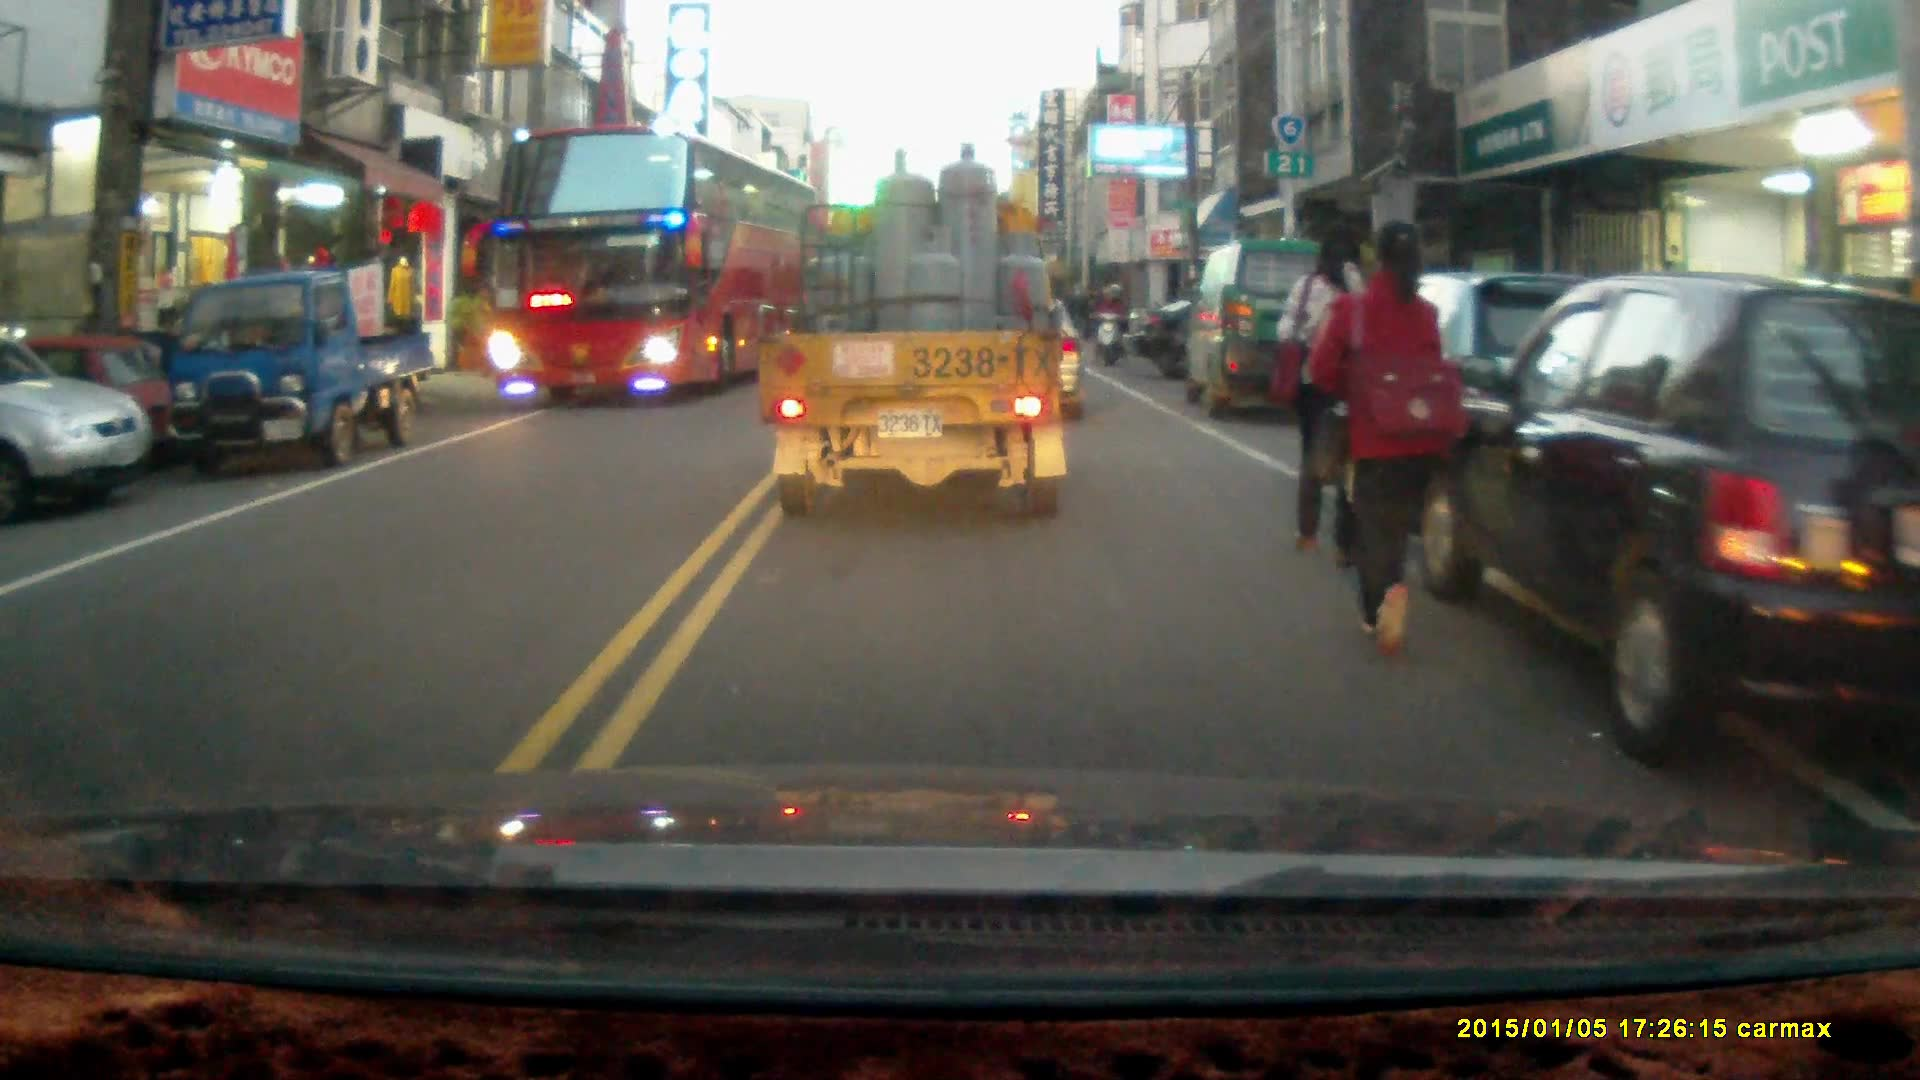pedestrian: (1311, 216, 1455, 658), (1276, 215, 1392, 573)
rider: (1091, 280, 1131, 368)
vehicle: (1423, 270, 1920, 769), (754, 142, 1076, 522), (484, 123, 819, 411), (156, 274, 437, 468), (1191, 236, 1369, 421), (1, 325, 151, 522)
